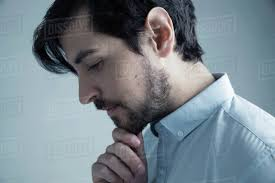white_male: (60, 27, 168, 126)
